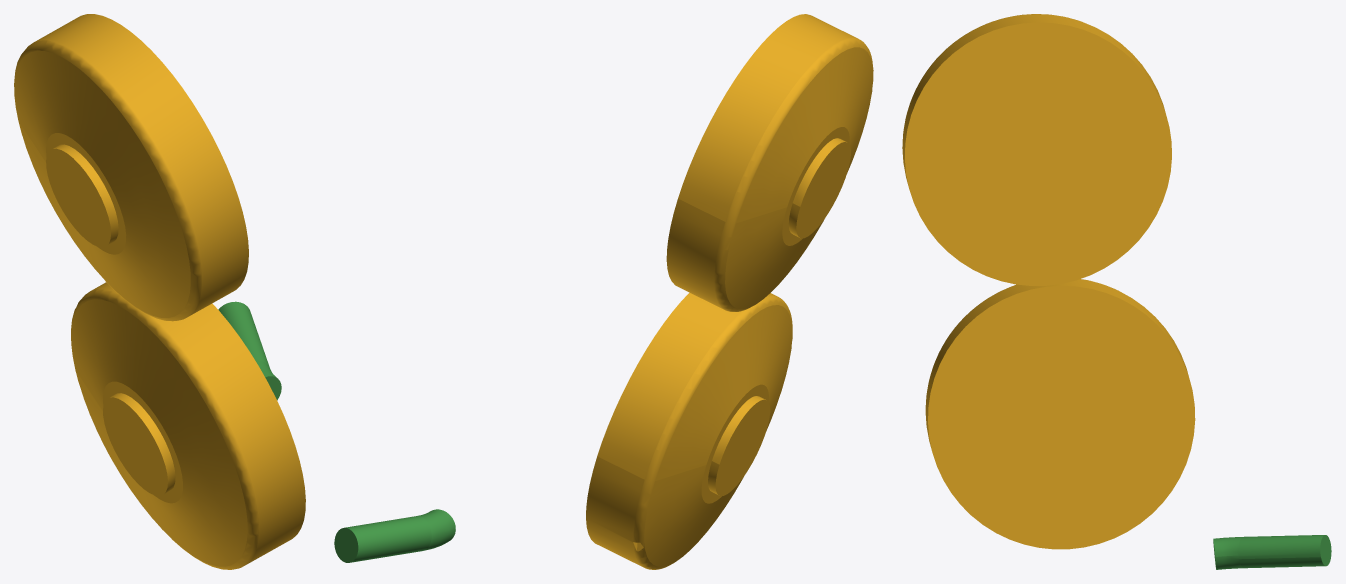
The model's file is right_cooler_with_fans.glb.
3 views of the same model, side by side, from view 1: azimuth 30°, elevation 25°; view 2: azimuth 150°, elevation 25°; view 3: azimuth 270°, elevation 25° (orthographic). The views are drawn at different scales.
Visible parts, largest first — view 1: right_cooler_with_fans; view 2: right_cooler_with_fans; view 3: right_cooler_with_fans.
Boxes of the visible parts, <box> form: right_cooler_with_fans: <box>14,14,305,569</box>; right_cooler_with_fans: <box>334,14,873,569</box>; right_cooler_with_fans: <box>902,14,1331,569</box>.
Size of the model in its own units: 220 by 336 by 273.
